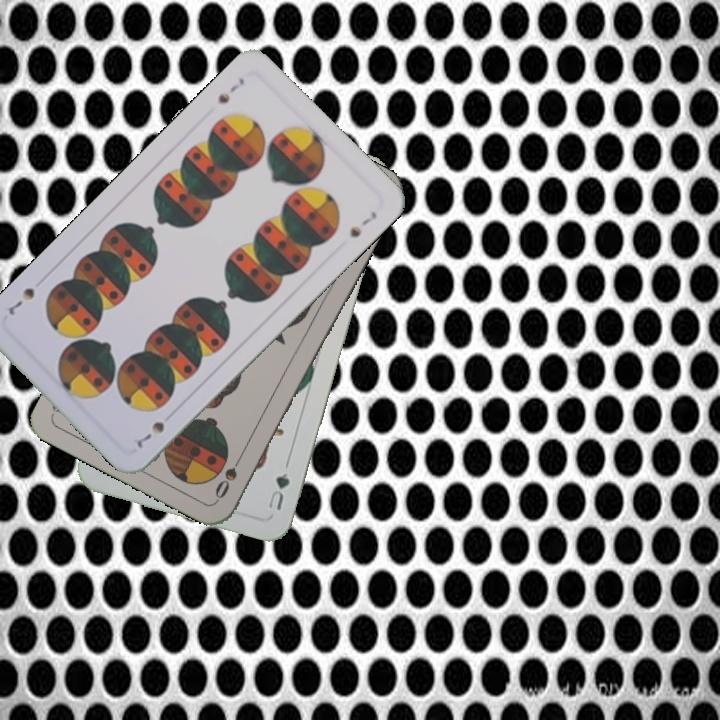GU: (264, 468, 293, 513)
S7: (132, 417, 167, 451), (214, 73, 247, 107)
SO: (211, 448, 247, 502)
